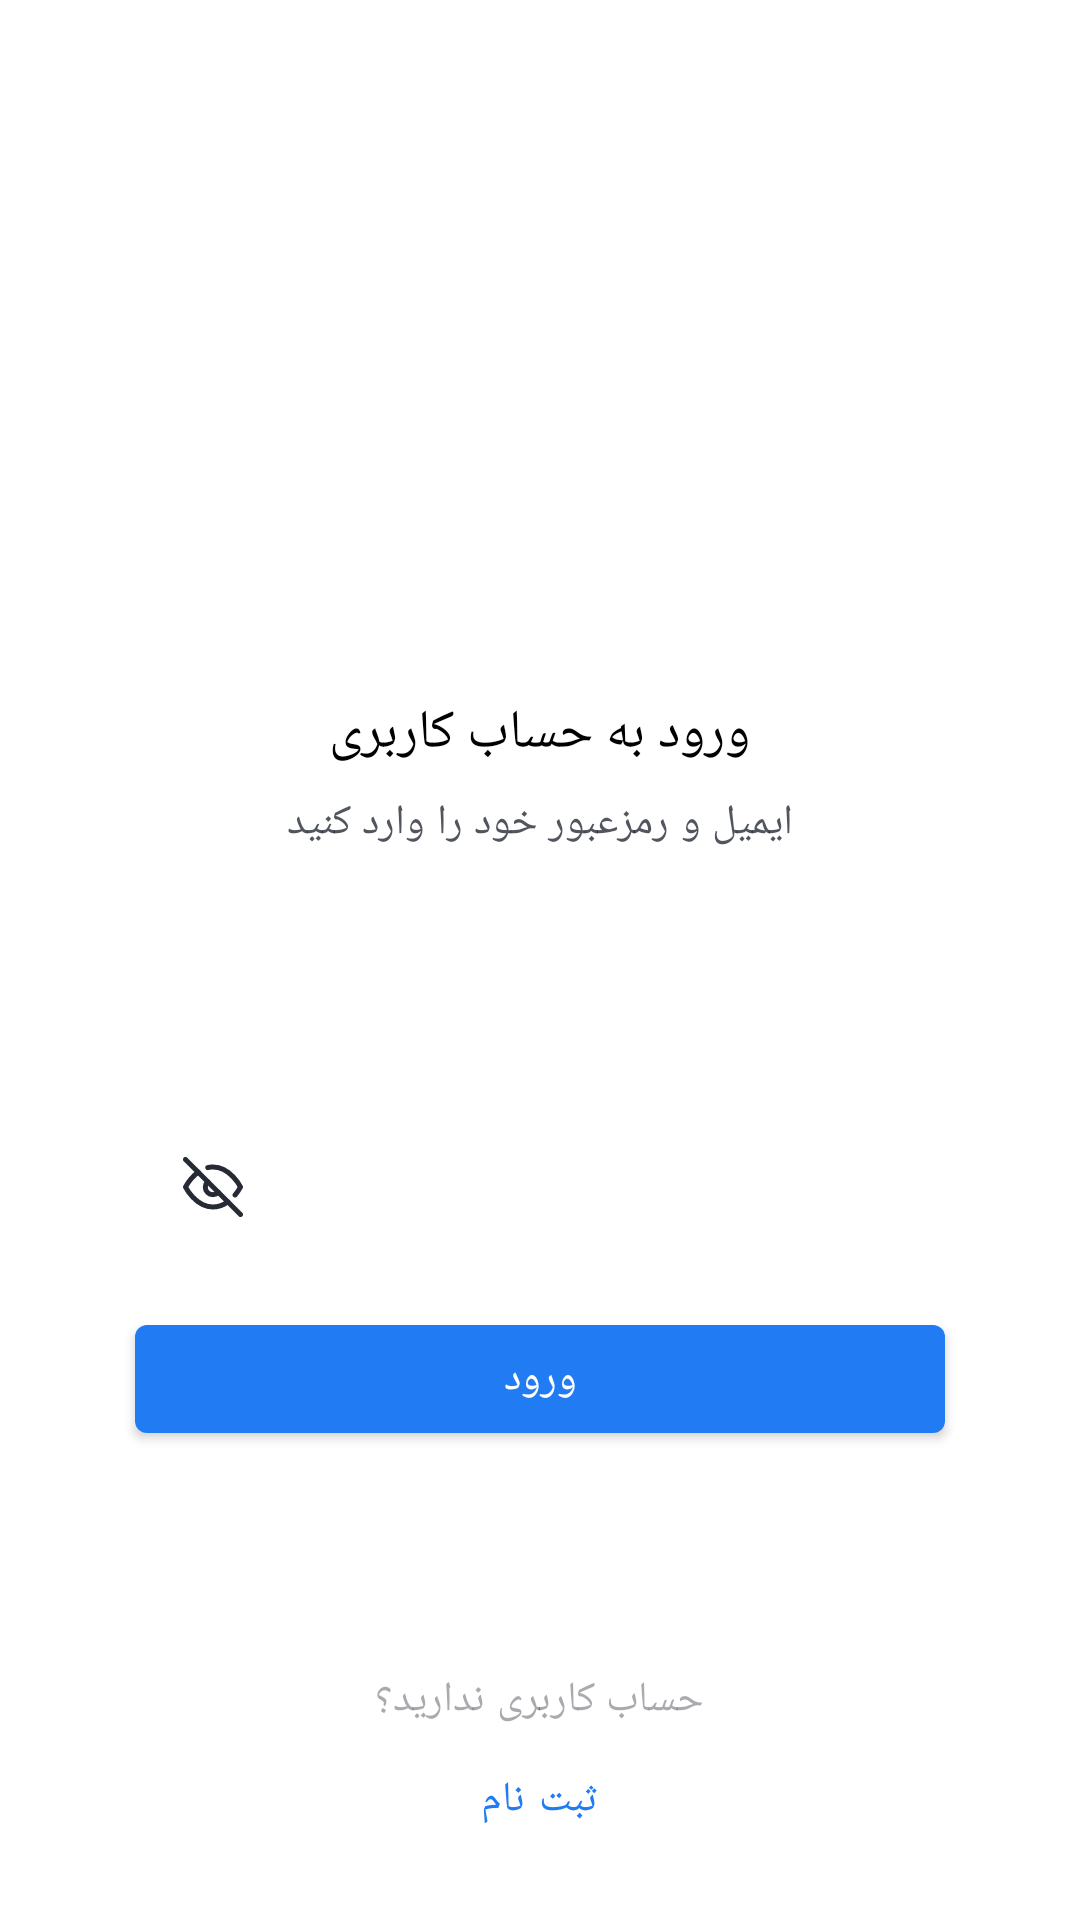

Named icons in this screenshot (1080 x 1920) and their centers, point (x, y):
eye off: point (213, 1187)
